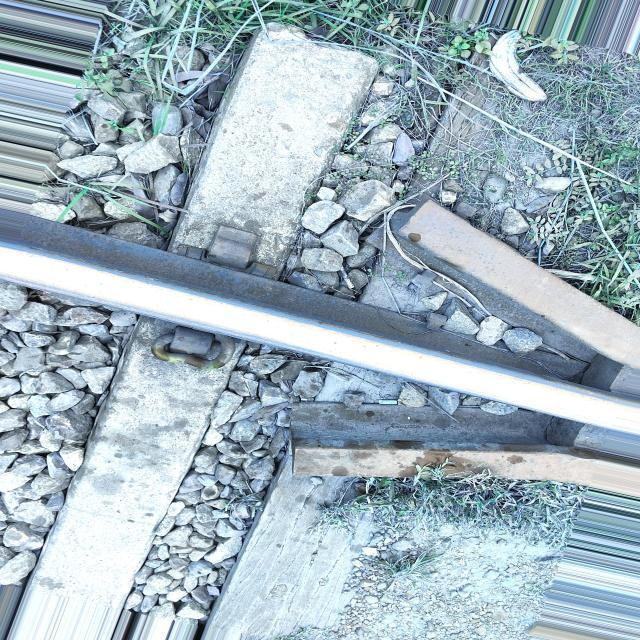Good Fasteners: (151, 326, 235, 369)
Missing Fastener: (206, 226, 257, 270)
